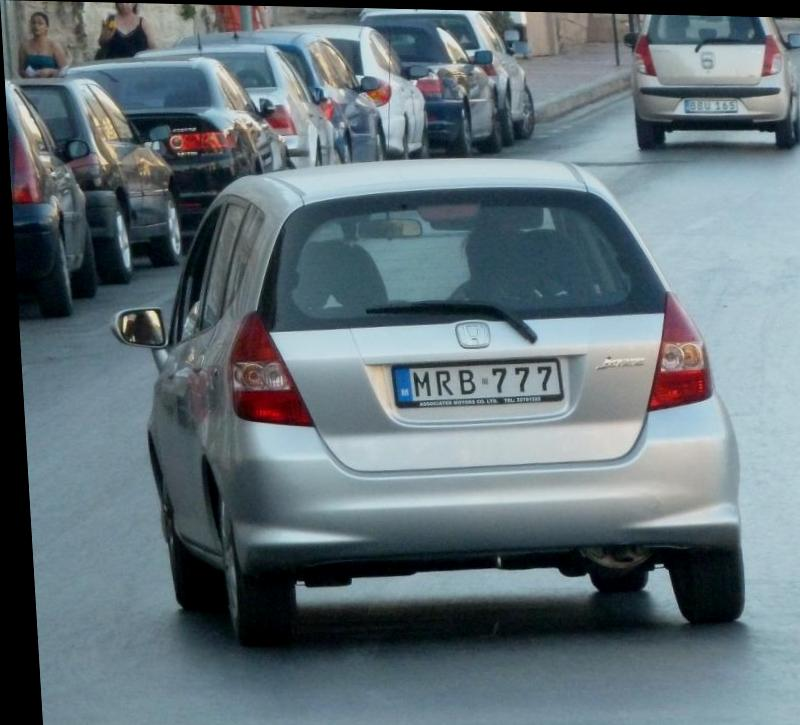License_Plate: (379, 346, 573, 418)
